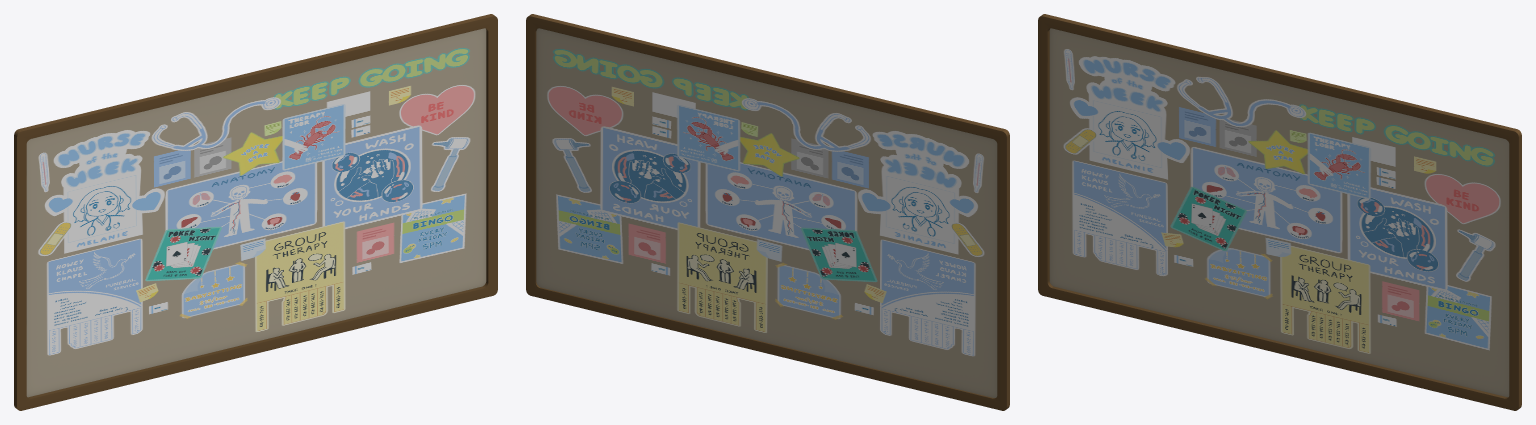
Rendered from bulletinnn.fbx.
The picture shows the model from 3 angles, left to right: view 1: azimuth 30°, elevation 25°; view 2: azimuth 150°, elevation 25°; view 3: azimuth 330°, elevation 25°; orthographic projection.
Parts seen in each view (by area): view 1: Plane, board; view 2: Plane, board; view 3: Plane, board.
Boxes of the visible parts, bbox=[...] form: Plane: bbox=[26, 28, 486, 397]; board: bbox=[14, 14, 497, 410]; Plane: bbox=[536, 28, 997, 397]; board: bbox=[526, 14, 1009, 410]; Plane: bbox=[1049, 28, 1509, 397]; board: bbox=[1038, 14, 1521, 410].
Bounding box in the file's own units: 900 × 500 × 10.
2 materials, 2 textured.
